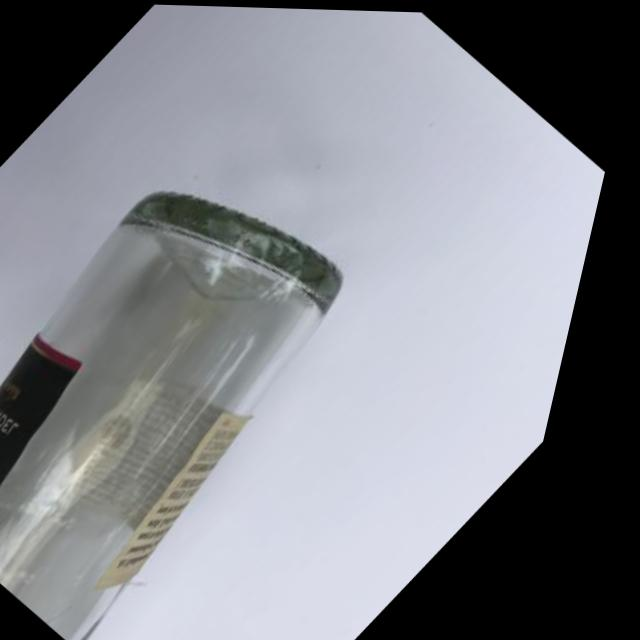glass: (0, 71, 509, 640)
